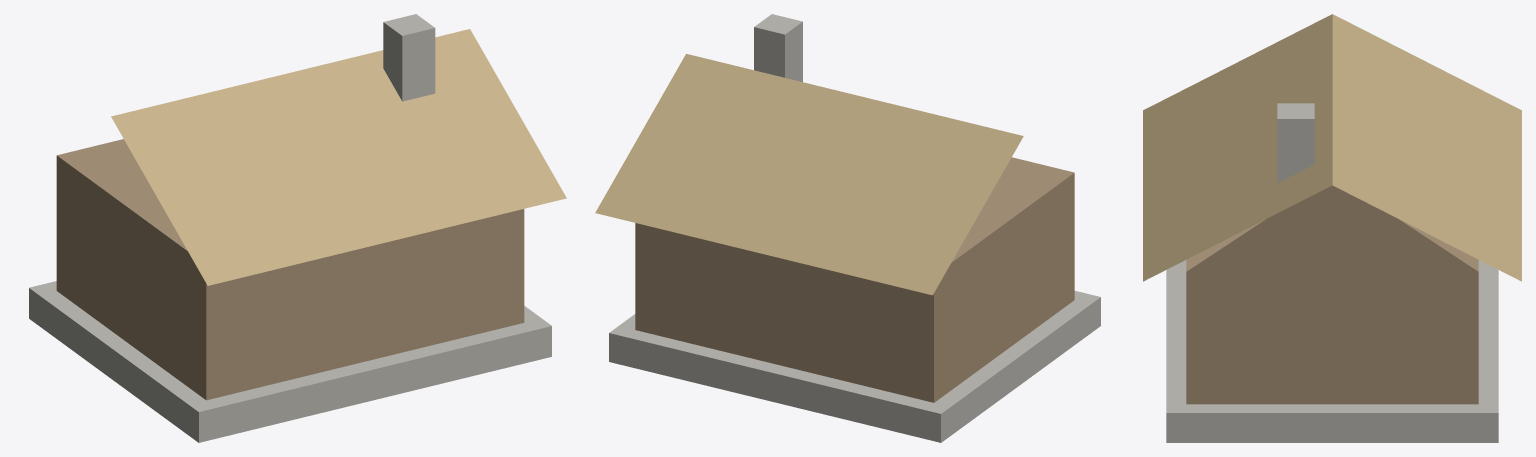
File: house_croft.glb
3 views of the same model, side by side, from view 1: azimuth 30°, elevation 25°; view 2: azimuth 150°, elevation 25°; view 3: azimuth 270°, elevation 25° (orthographic). The views are drawn at different scales.
Visible parts, largest first — view 1: lod0; view 2: lod0; view 3: lod0.
Part boxes in pixels (bbox=[...]): lod0: bbox=[29, 14, 566, 442]; lod0: bbox=[595, 14, 1100, 442]; lod0: bbox=[1143, 14, 1521, 442].
Size of what is drawn, in the model's own units: 6.1 by 4.9 by 5.7.
